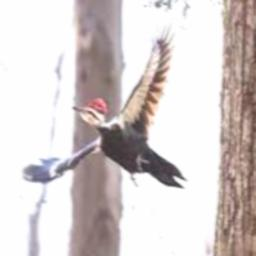Woodpecker: (21, 13, 187, 188)
